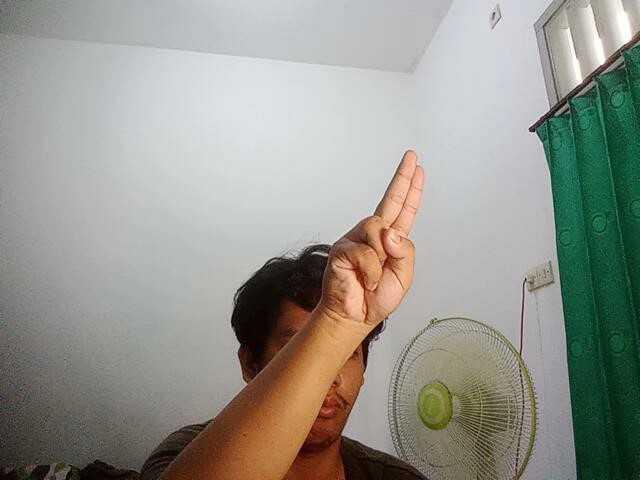U: (316, 129, 433, 332)
